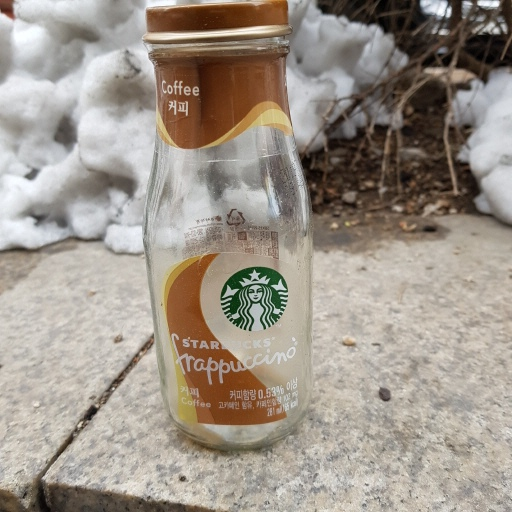Glass_4: (136, 1, 319, 454)
